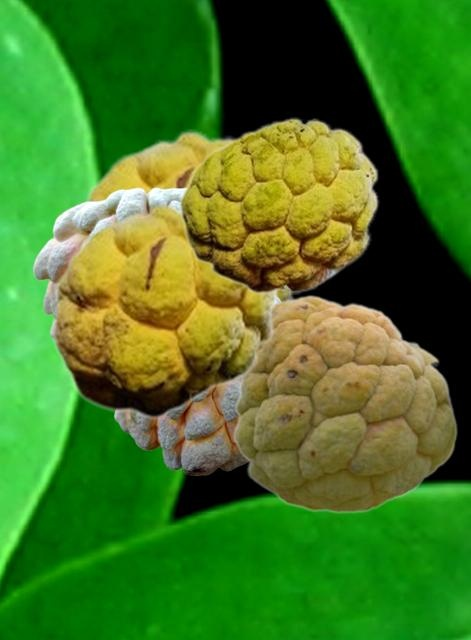atis: (50, 202, 278, 418), (232, 294, 456, 512), (80, 129, 297, 299), (178, 117, 378, 293), (113, 297, 280, 474), (33, 187, 183, 336)
